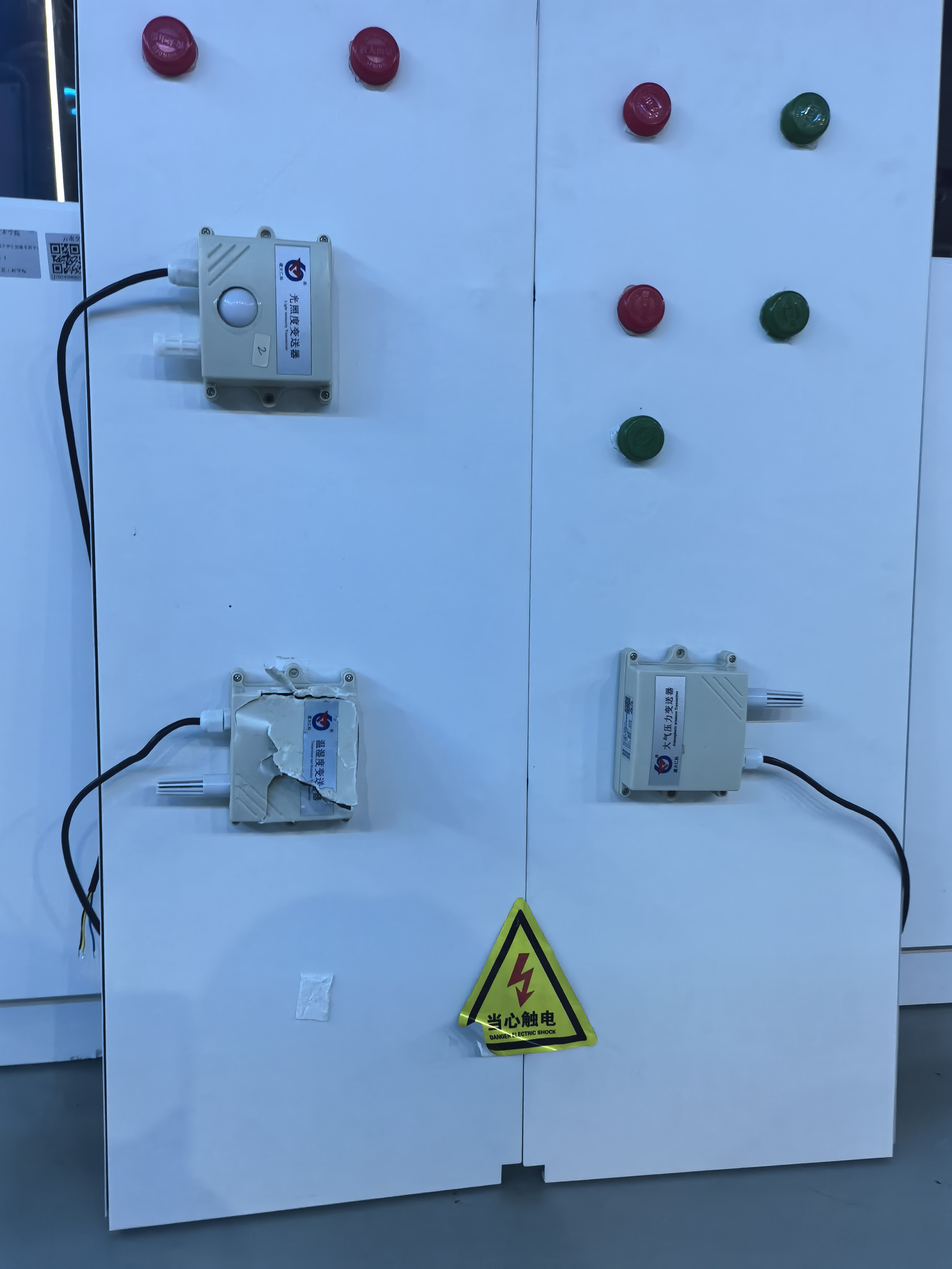red_warning: (118, 3, 231, 92), (595, 264, 681, 349), (337, 11, 426, 89), (617, 61, 696, 147)
sensor_damage: (142, 641, 388, 839)
